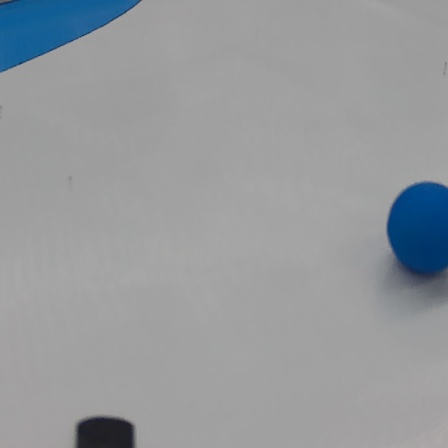blue: (386, 181, 447, 275)
blue_base: (0, 0, 146, 68)
